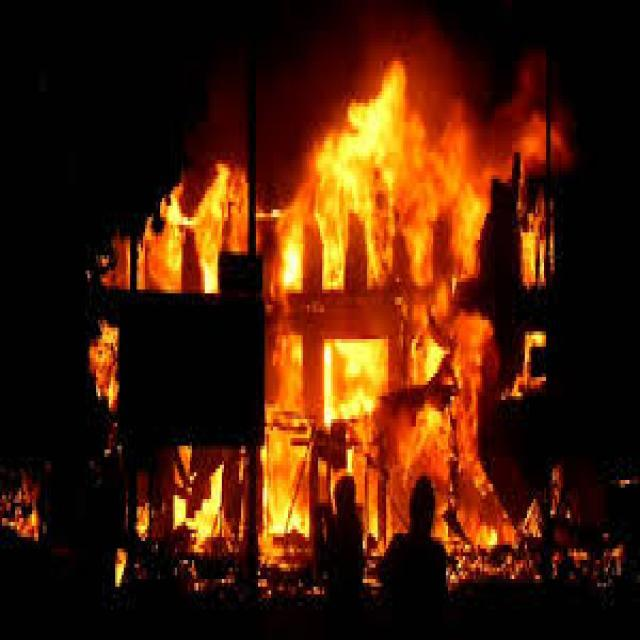Fire: (269, 95, 552, 586)
